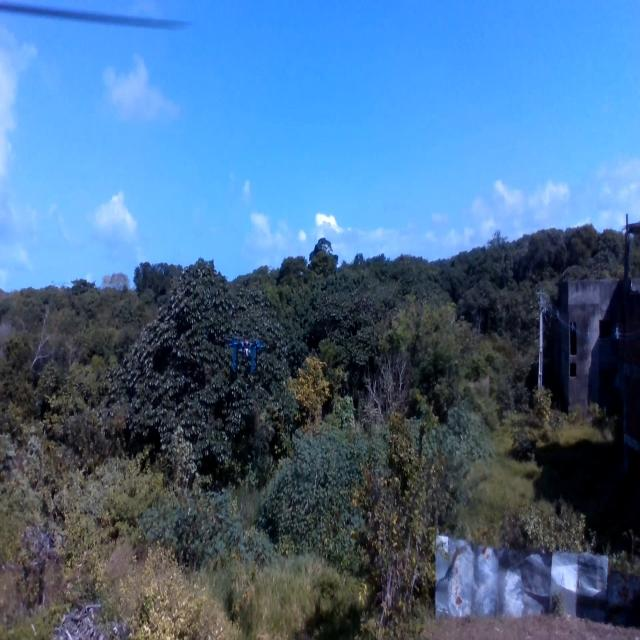-uav-: (219, 319, 271, 387)
